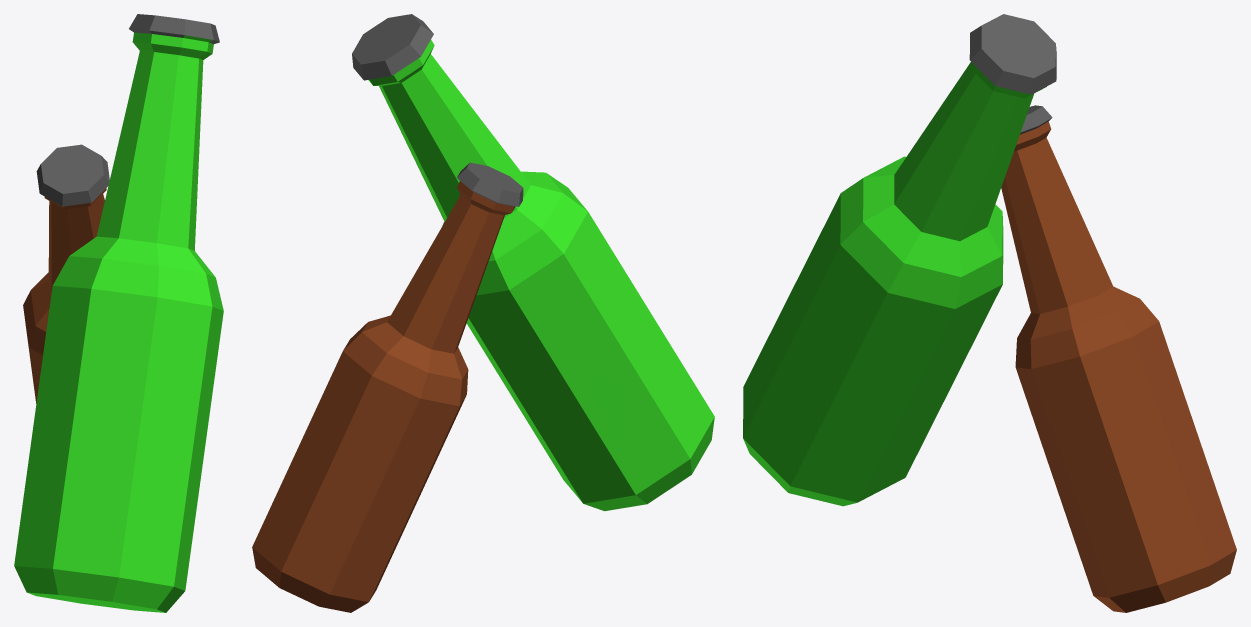
File: bottleA.fbx
3 views of the same model, side by side, from view 1: azimuth 30°, elevation 25°; view 2: azimuth 150°, elevation 25°; view 3: azimuth 270°, elevation 25° (orthographic). The views are drawn at different scales.
Visible parts, largest first — view 1: SM_Prop_Bottle_03, SM_Prop_Bottle_03.001; view 2: SM_Prop_Bottle_03, SM_Prop_Bottle_03.001; view 3: SM_Prop_Bottle_03, SM_Prop_Bottle_03.001.
Part boxes in pixels (x1=…): SM_Prop_Bottle_03: x1=14, y1=14, x2=223, y2=612; SM_Prop_Bottle_03.001: x1=23, y1=144, x2=109, y2=403; SM_Prop_Bottle_03: x1=352, y1=14, x2=714, y2=511; SM_Prop_Bottle_03.001: x1=252, y1=162, x2=523, y2=612; SM_Prop_Bottle_03: x1=743, y1=14, x2=1056, y2=506; SM_Prop_Bottle_03.001: x1=1001, y1=105, x2=1236, y2=612.
Bounding box in the file's own units: 177 × 309 × 237.
